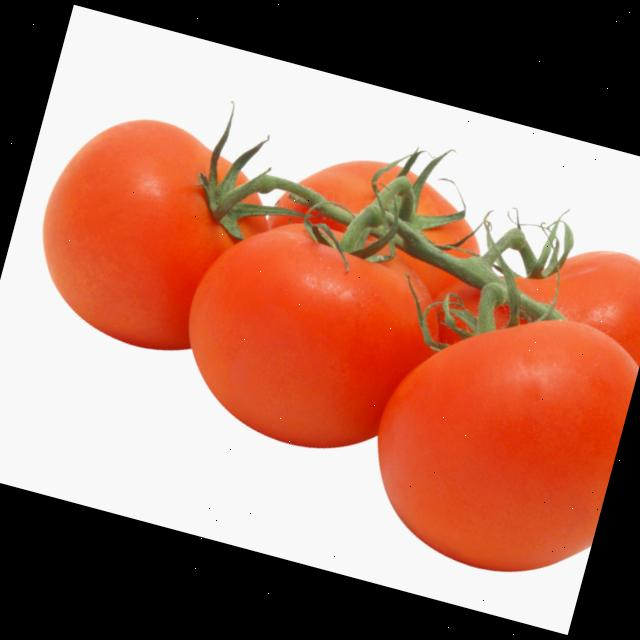tomato: (344, 274, 640, 609), (1, 89, 301, 389), (150, 192, 446, 488), (250, 83, 523, 297), (432, 195, 640, 434)
